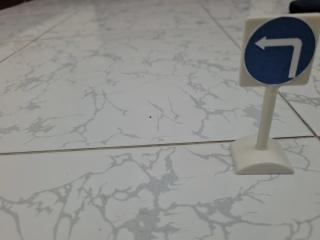left: (241, 13, 320, 88)
